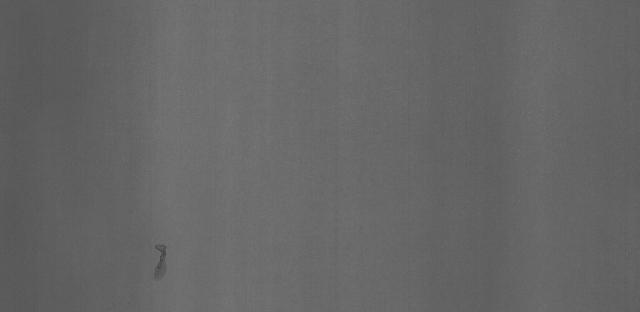water_spot: (145, 226, 179, 289)
